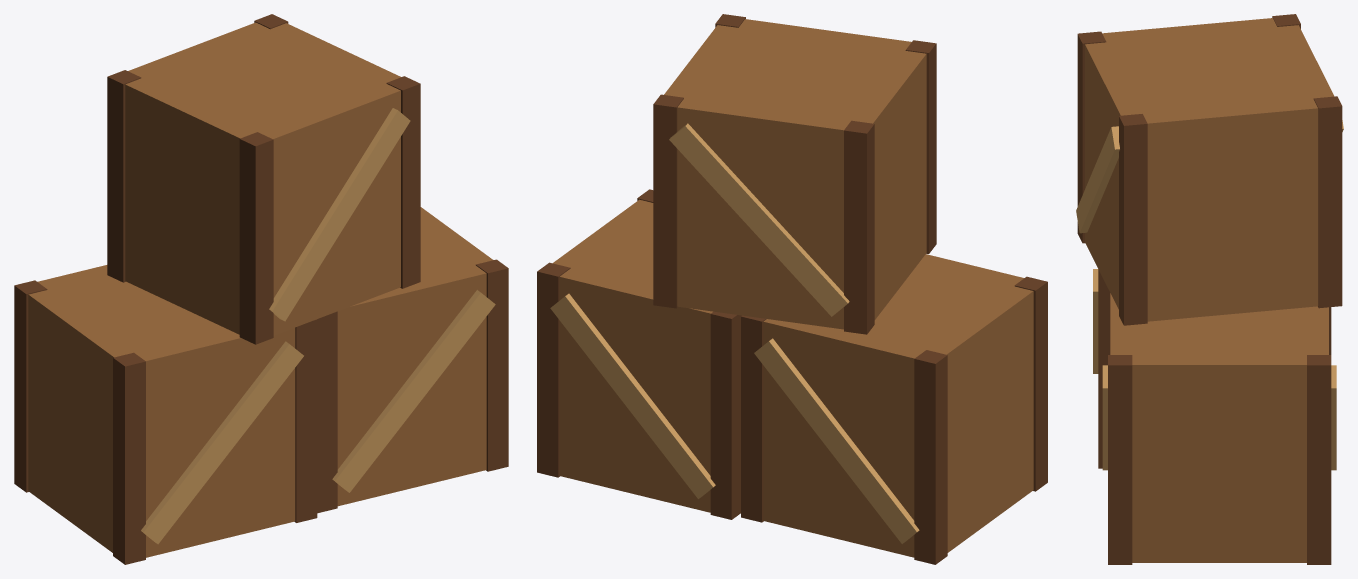
Rendered from crate-stack-pixor.glb.
3 renders of one model, left to right at view 1: azimuth 30°, elevation 25°; view 2: azimuth 150°, elevation 25°; view 3: azimuth 270°, elevation 25°, orthographic.
Visible parts, largest first — view 1: Crates, Crate trims, Crate braces; view 2: Crates, Crate trims, Crate braces; view 3: Crates, Crate trims, Crate braces.
Boxes of the visible parts, box(x1,y1,x2,y2) form: Crates: box(28, 22, 493, 557); Crate trims: box(14, 14, 508, 564); Crate braces: box(141, 108, 495, 544); Crates: box(553, 19, 1033, 557); Crate trims: box(537, 14, 1047, 564); Crate braces: box(550, 123, 919, 543); Crates: box(1085, 18, 1334, 562); Crate trims: box(1077, 14, 1342, 564); Crate braces: box(1076, 120, 1343, 470).
Bounding box in the file's own units: 0.93 × 0.908 × 0.5516.
